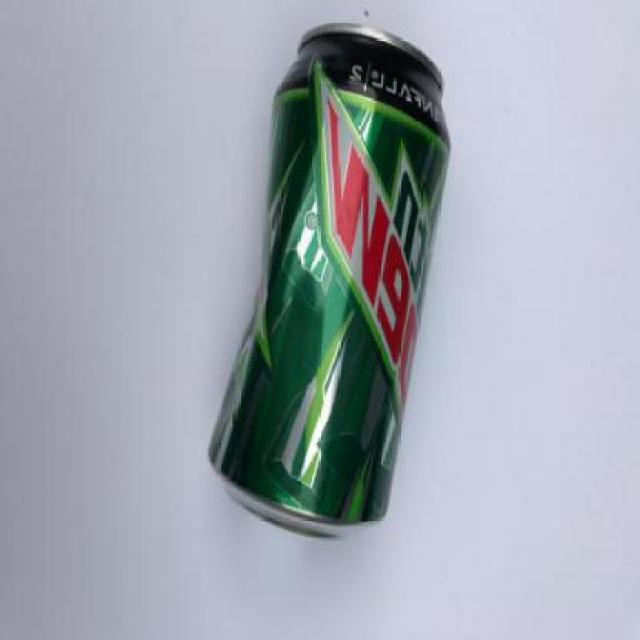METAL: (210, 20, 453, 535)
